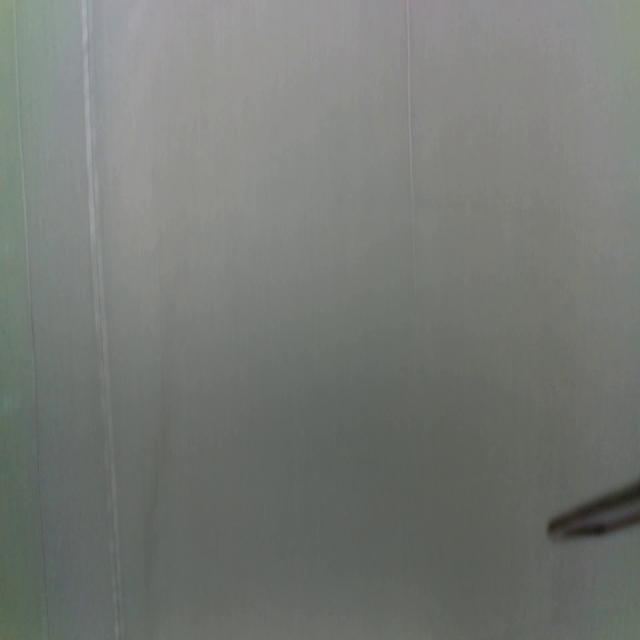crease: (81, 0, 122, 637), (13, 0, 50, 640), (404, 0, 419, 340)
